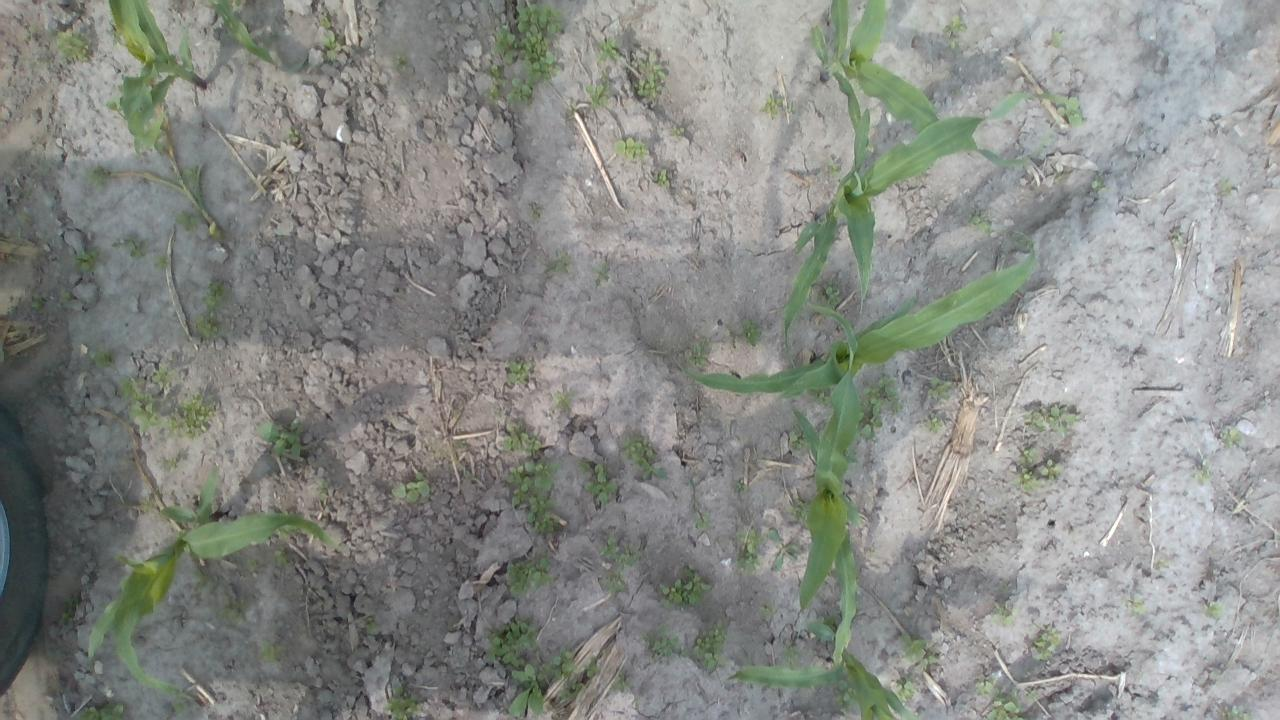Maize: (779, 86, 1072, 374), (679, 238, 1034, 402), (86, 473, 341, 697), (811, 0, 1022, 175), (792, 296, 861, 662), (738, 623, 920, 720), (100, 0, 208, 155), (208, 0, 310, 79)
Weeds: (492, 1, 566, 86), (110, 373, 178, 435), (509, 460, 560, 534), (481, 614, 541, 669), (170, 386, 217, 439), (621, 432, 668, 480), (658, 568, 714, 608), (1022, 402, 1080, 439), (507, 558, 558, 600), (508, 663, 546, 717), (691, 621, 730, 672), (640, 622, 690, 660), (258, 416, 302, 459), (578, 459, 620, 504), (632, 51, 668, 102), (862, 375, 904, 412), (382, 684, 424, 720), (47, 27, 89, 62), (900, 628, 936, 668), (598, 536, 640, 570), (766, 528, 798, 572), (734, 526, 762, 575), (983, 688, 1024, 720), (501, 421, 540, 454), (215, 596, 253, 628), (392, 472, 431, 502), (1031, 624, 1063, 660), (542, 646, 576, 679), (1054, 94, 1087, 128), (942, 13, 968, 49), (69, 246, 102, 274), (74, 703, 128, 720), (852, 411, 882, 441), (256, 638, 290, 664), (582, 77, 610, 108), (506, 78, 534, 109), (760, 94, 796, 118), (200, 278, 227, 310), (1009, 465, 1041, 492), (834, 677, 856, 716), (614, 136, 648, 161), (784, 496, 810, 528), (318, 30, 342, 64), (688, 336, 712, 368), (173, 208, 204, 232), (557, 678, 586, 702), (894, 677, 920, 703), (926, 376, 952, 402), (602, 568, 628, 594), (1040, 456, 1066, 482), (86, 166, 112, 192), (506, 358, 531, 385), (596, 38, 620, 66), (194, 312, 219, 338), (968, 210, 994, 234), (1190, 462, 1216, 485), (992, 605, 1019, 627), (741, 320, 762, 348), (1008, 229, 1036, 250), (542, 254, 570, 274), (789, 423, 809, 450), (86, 348, 112, 368), (61, 598, 80, 624), (1220, 703, 1249, 720), (484, 82, 504, 105), (1016, 446, 1040, 465), (1126, 598, 1150, 617), (583, 652, 600, 678), (1220, 428, 1242, 448), (150, 366, 172, 386), (192, 567, 210, 591), (782, 644, 799, 669), (178, 165, 198, 185), (104, 93, 123, 114), (974, 677, 992, 698), (814, 388, 834, 406), (608, 672, 626, 692), (486, 64, 506, 82), (128, 238, 146, 258), (1204, 600, 1222, 620), (693, 511, 711, 530), (552, 391, 570, 410), (818, 614, 838, 630), (1048, 28, 1064, 48), (843, 446, 860, 464), (652, 167, 668, 186), (30, 295, 48, 311), (926, 416, 944, 432), (826, 158, 841, 177), (1219, 177, 1233, 196), (1090, 176, 1106, 192), (152, 255, 168, 271), (1153, 555, 1171, 569), (366, 616, 378, 636), (174, 696, 187, 714), (318, 478, 330, 497), (759, 606, 775, 620), (274, 548, 288, 563), (319, 15, 333, 28), (286, 127, 300, 140), (61, 288, 73, 303), (394, 53, 406, 66), (168, 457, 180, 470), (1025, 690, 1038, 700), (673, 126, 686, 136), (568, 103, 577, 112), (24, 31, 32, 39), (736, 483, 743, 492)
